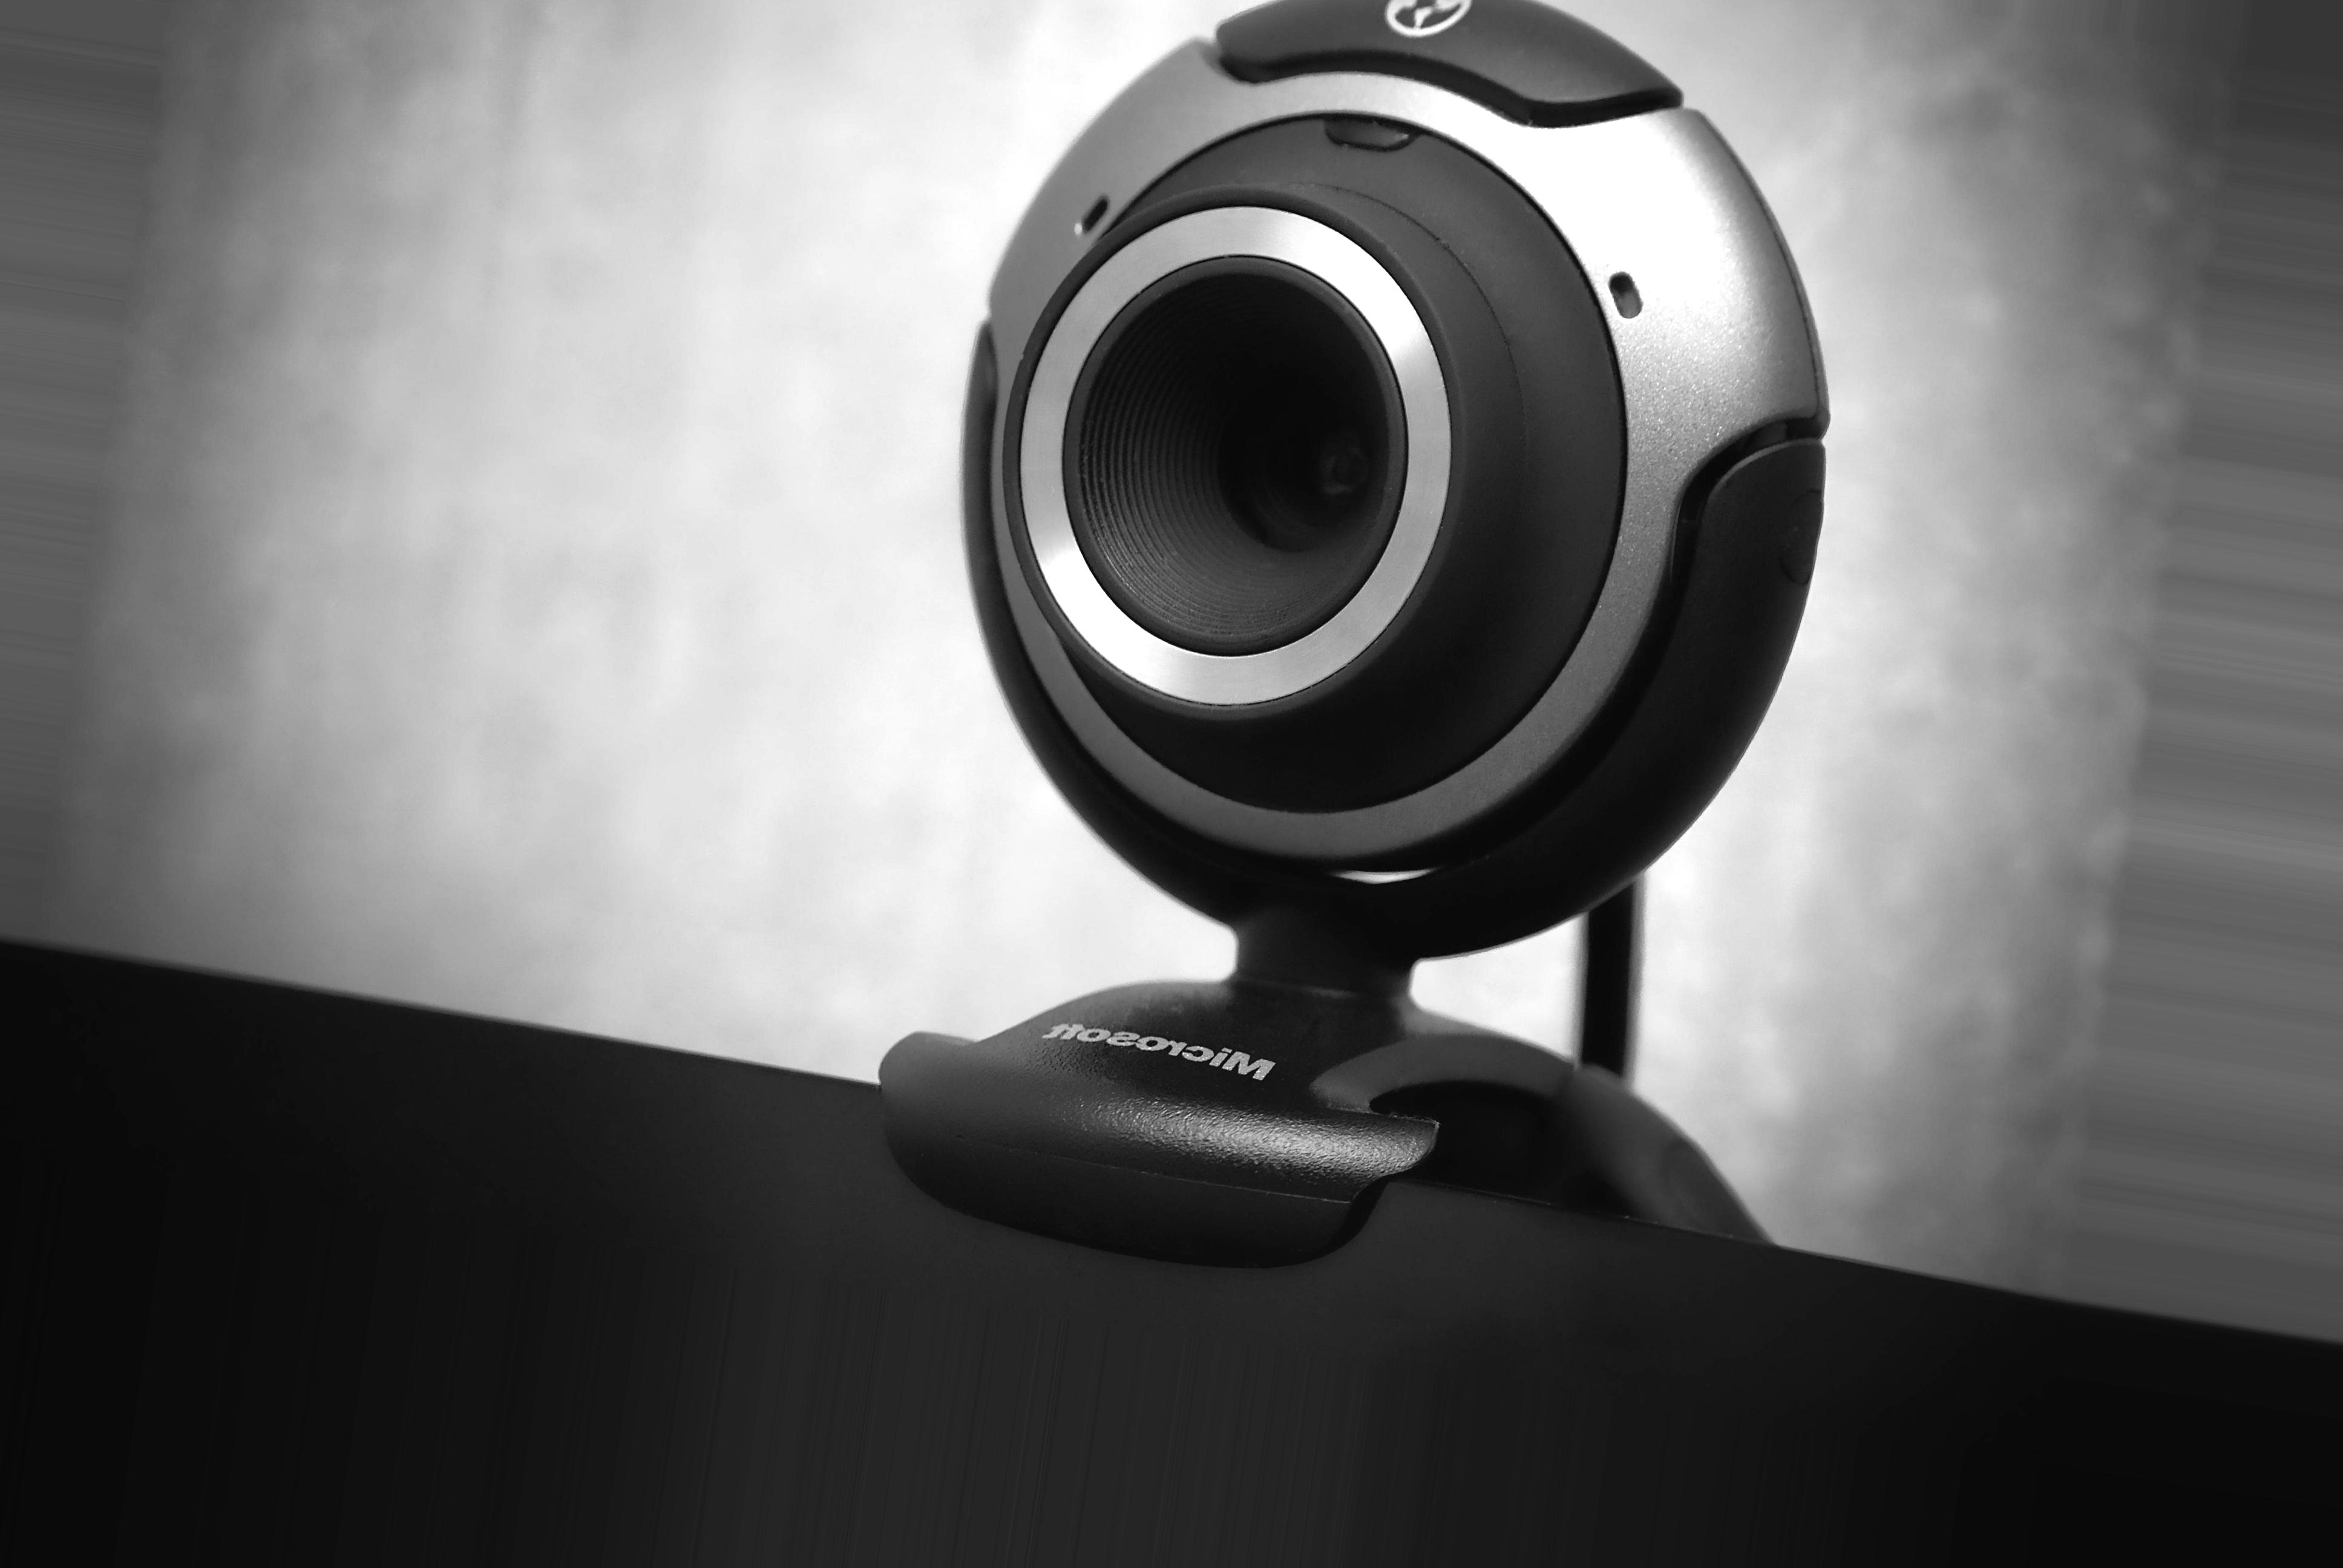webcam: (878, 0, 1902, 1003)
